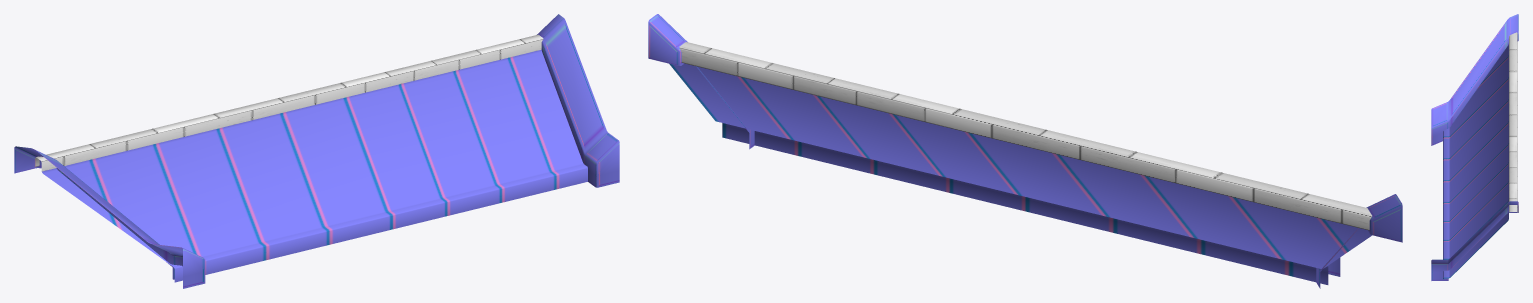
Rendered from SM_Roof_03c.fbx.
3 renders of one model, left to right at view 1: azimuth 30°, elevation 25°; view 2: azimuth 150°, elevation 25°; view 3: azimuth 270°, elevation 25°, orthographic. The views are drawn at different scales.
Parts seen in each view (by area): view 1: SM_Roof_Corner_03c; view 2: SM_Roof_Corner_03c; view 3: SM_Roof_Corner_03c.
Part boxes in pixels (x1,y1,x2,y2): SM_Roof_Corner_03c: (14, 14, 619, 288); SM_Roof_Corner_03c: (648, 14, 1402, 288); SM_Roof_Corner_03c: (1431, 14, 1518, 280).
Bounding box in the file's own units: 797 × 157 × 173.
